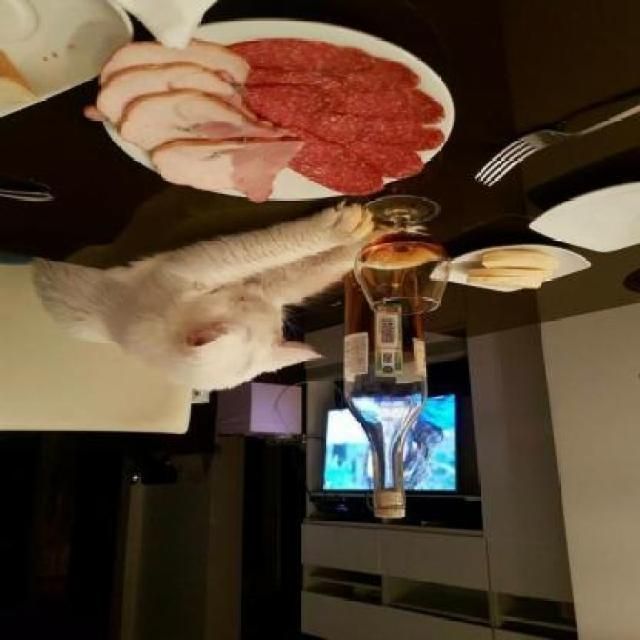cat: (26, 236, 331, 396)
